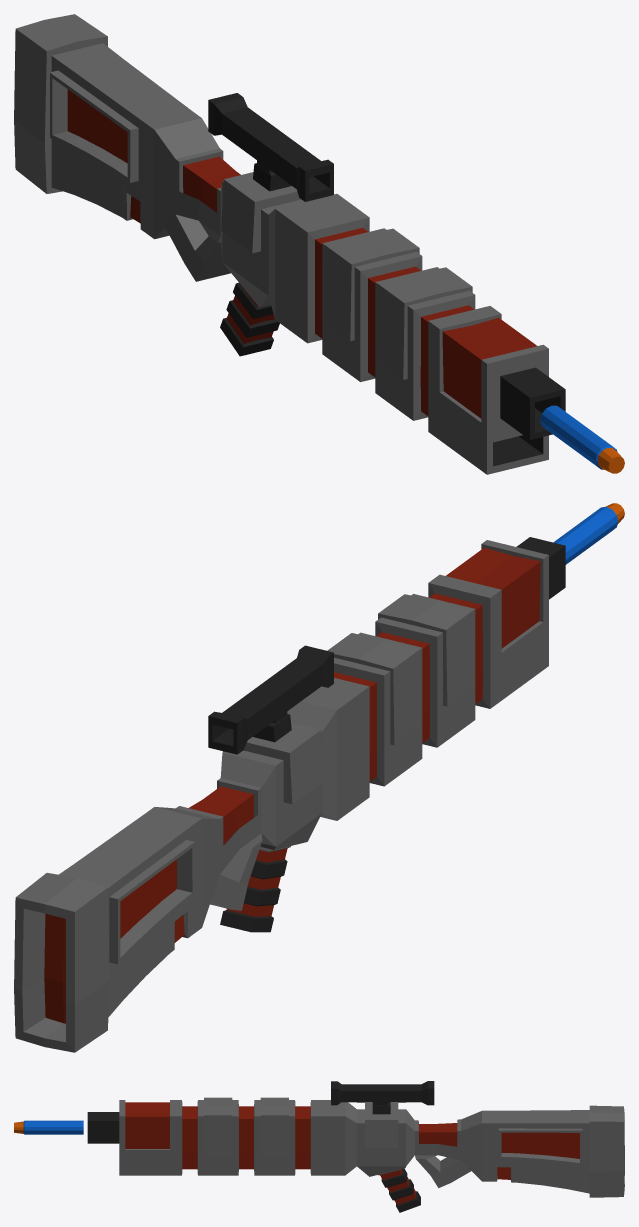
File: Gun.fbx
3 renders of one model, top to bottom at view 1: azimuth 30°, elevation 25°; view 2: azimuth 150°, elevation 25°; view 3: azimuth 270°, elevation 25°, orthographic. The views are drawn at different scales.
Parts seen in each view (by area): view 1: Gun, Bullet; view 2: Gun, Bullet; view 3: Gun, Bullet.
Boxes of the visible parts, x1,y1,x2,y2 form: Gun: [14, 14, 565, 474]; Bullet: [540, 405, 624, 473]; Gun: [14, 537, 565, 1052]; Bullet: [553, 503, 624, 564]; Gun: [87, 1081, 624, 1212]; Bullet: [14, 1120, 83, 1134].
Bounding box in the file's own units: 11.07 × 34.58 × 154.
